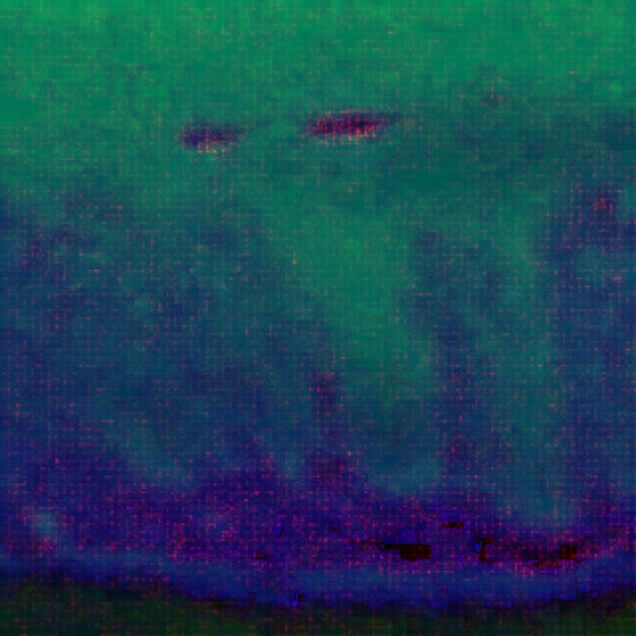rip_current: (250, 197, 493, 544)
